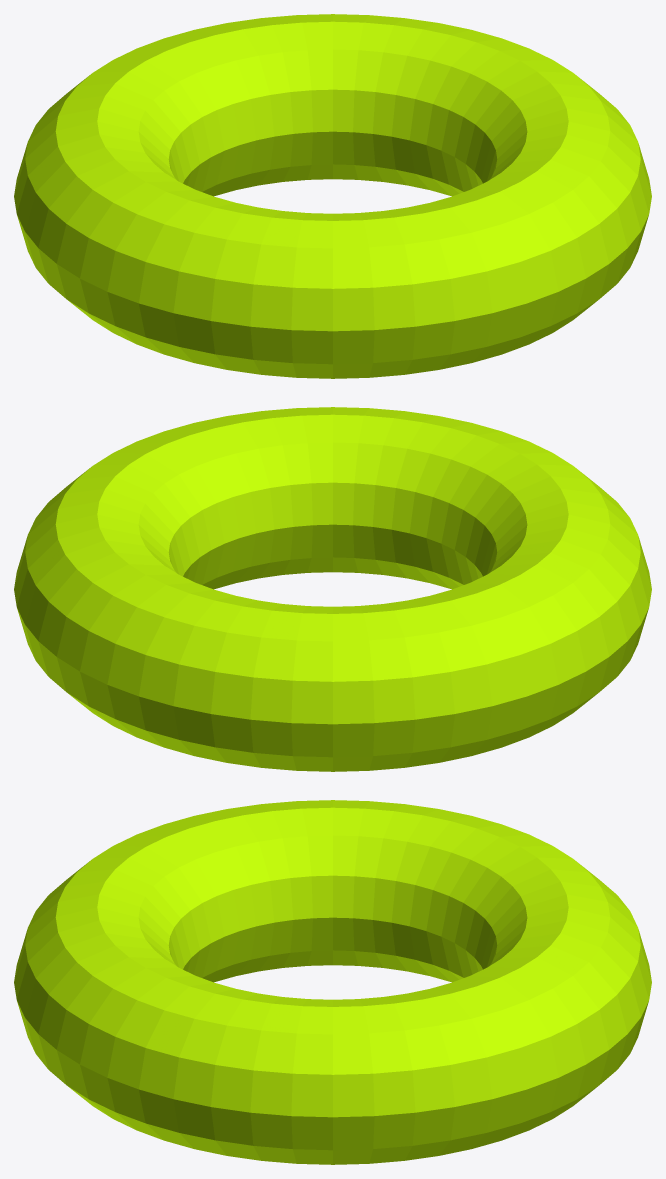
File: doughnut.glb
3 renders of one model, top to bottom at view 1: azimuth 30°, elevation 25°; view 2: azimuth 150°, elevation 25°; view 3: azimuth 270°, elevation 25°, orthographic.
Visible parts, largest first — view 1: Torus; view 2: Torus; view 3: Torus.
Part boxes in pixels (x1,y1,x2,y2): Torus: [14, 14, 651, 378]; Torus: [14, 407, 651, 771]; Torus: [14, 800, 651, 1164].
Bounding box in the file's own units: 2.7 × 0.702 × 2.7.
